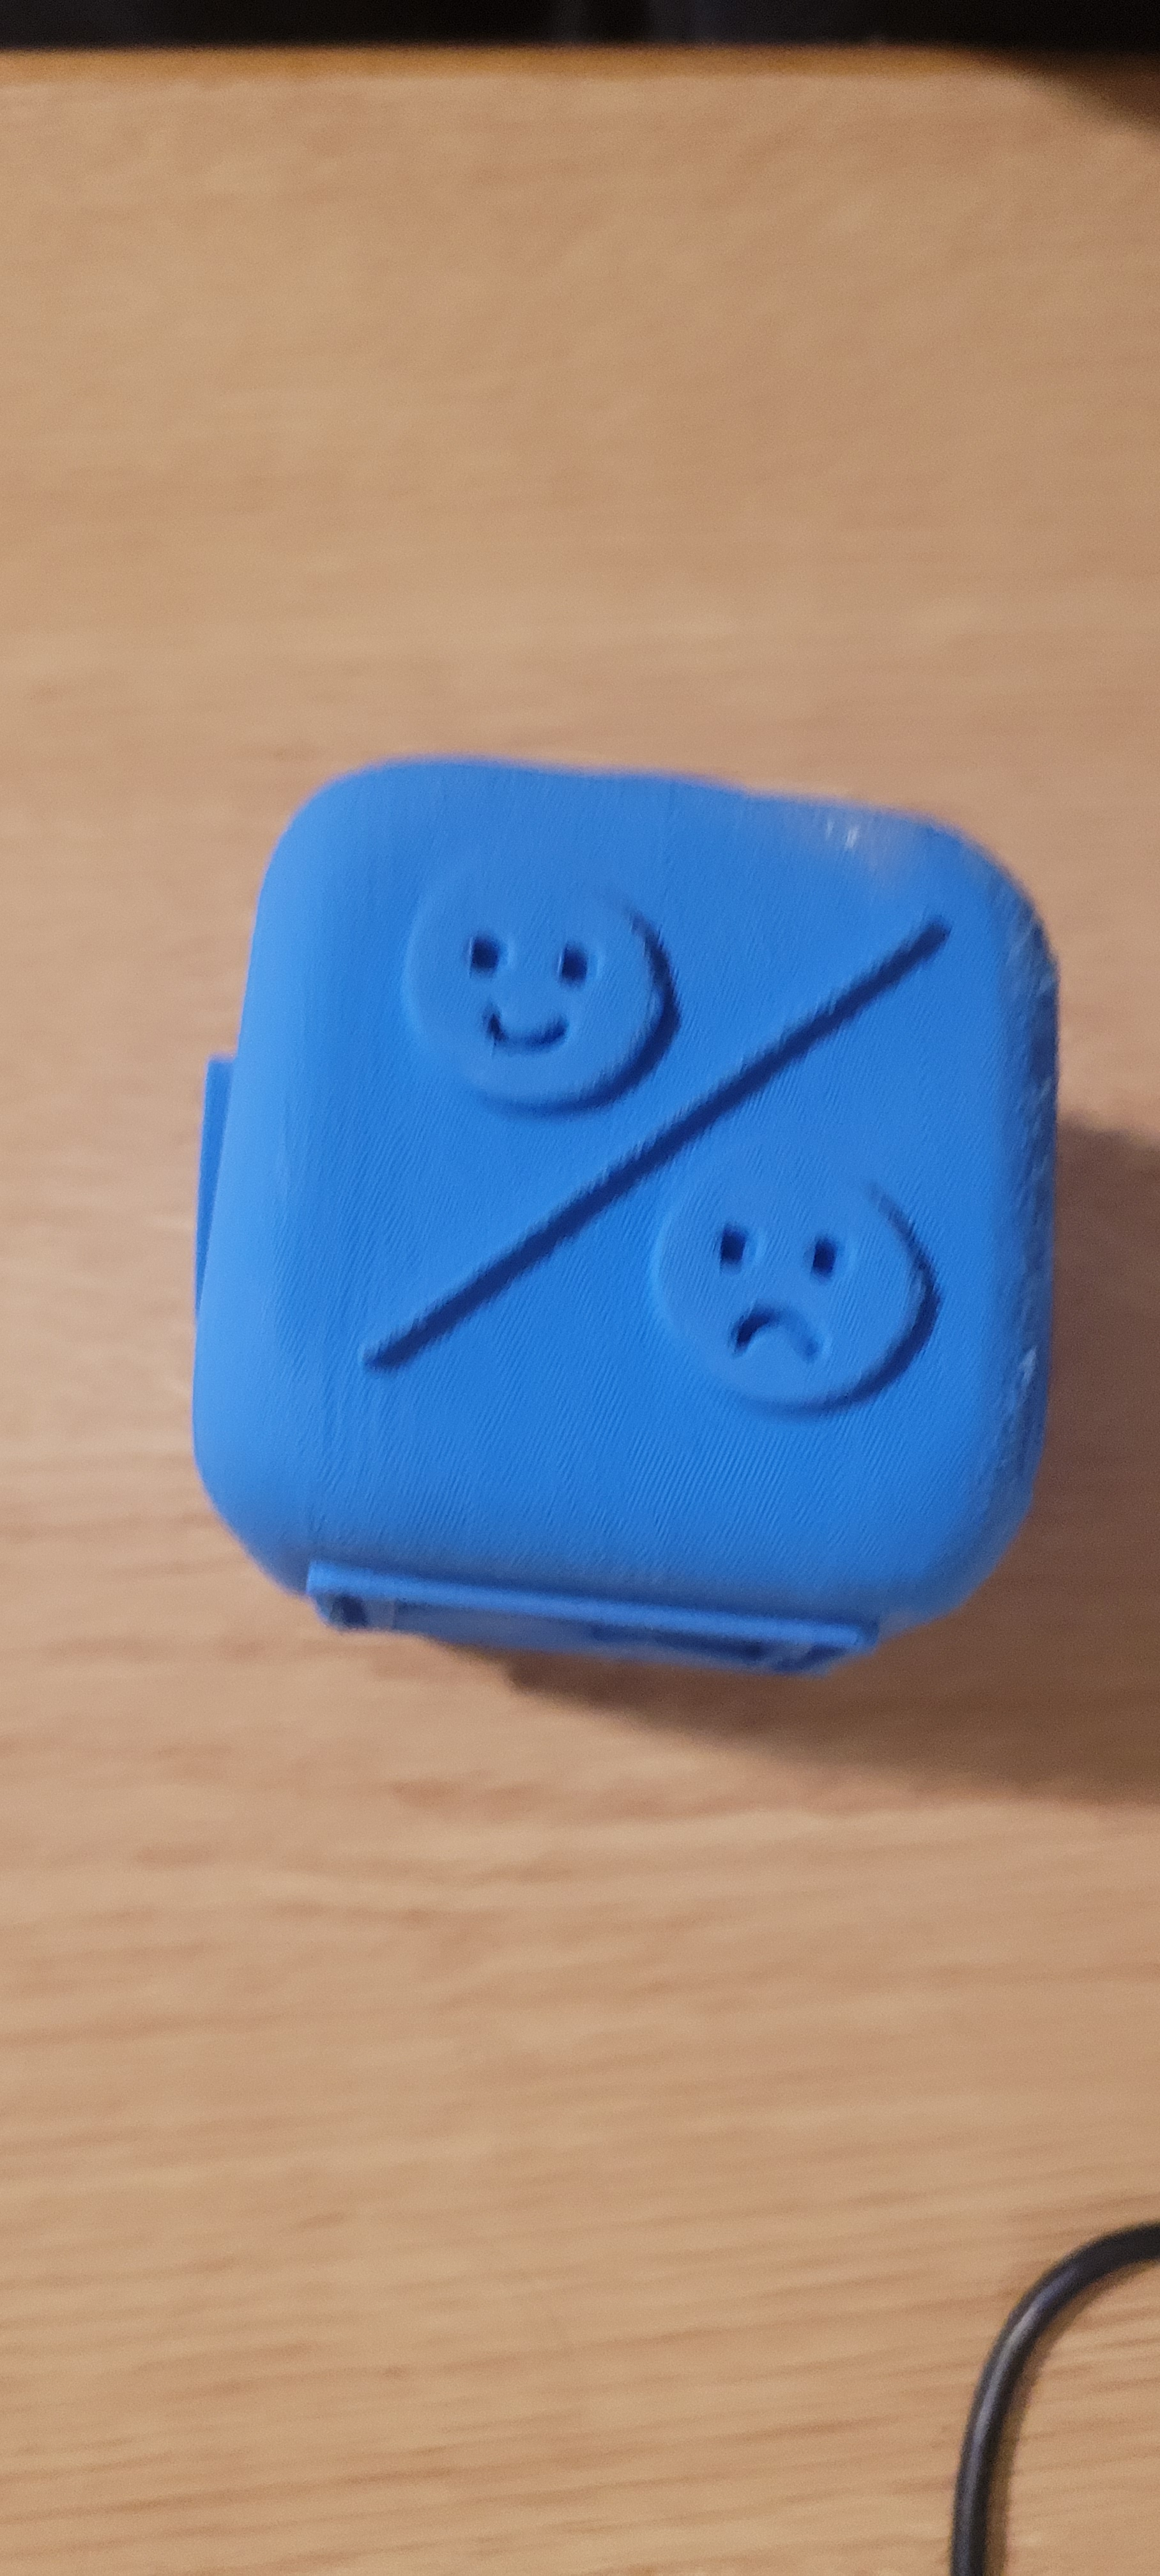Like/Dislike: (168, 779, 1099, 1526)
